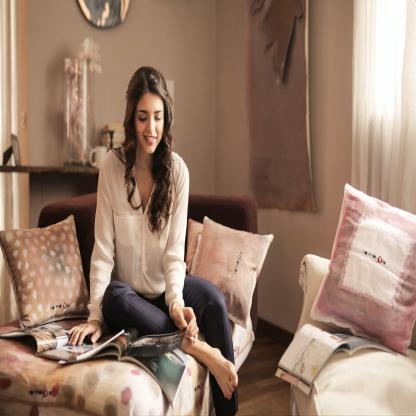Eye: (152, 113, 162, 124), (137, 113, 148, 122)
Mouth: (142, 134, 158, 144)
Nose: (146, 118, 154, 134)
